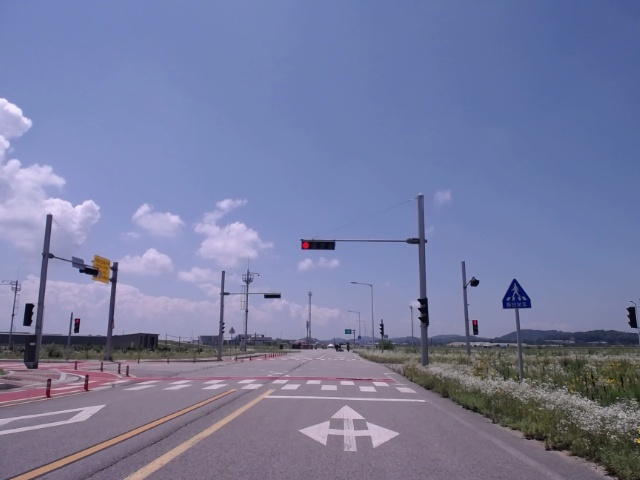red_4: (300, 241, 335, 250)
